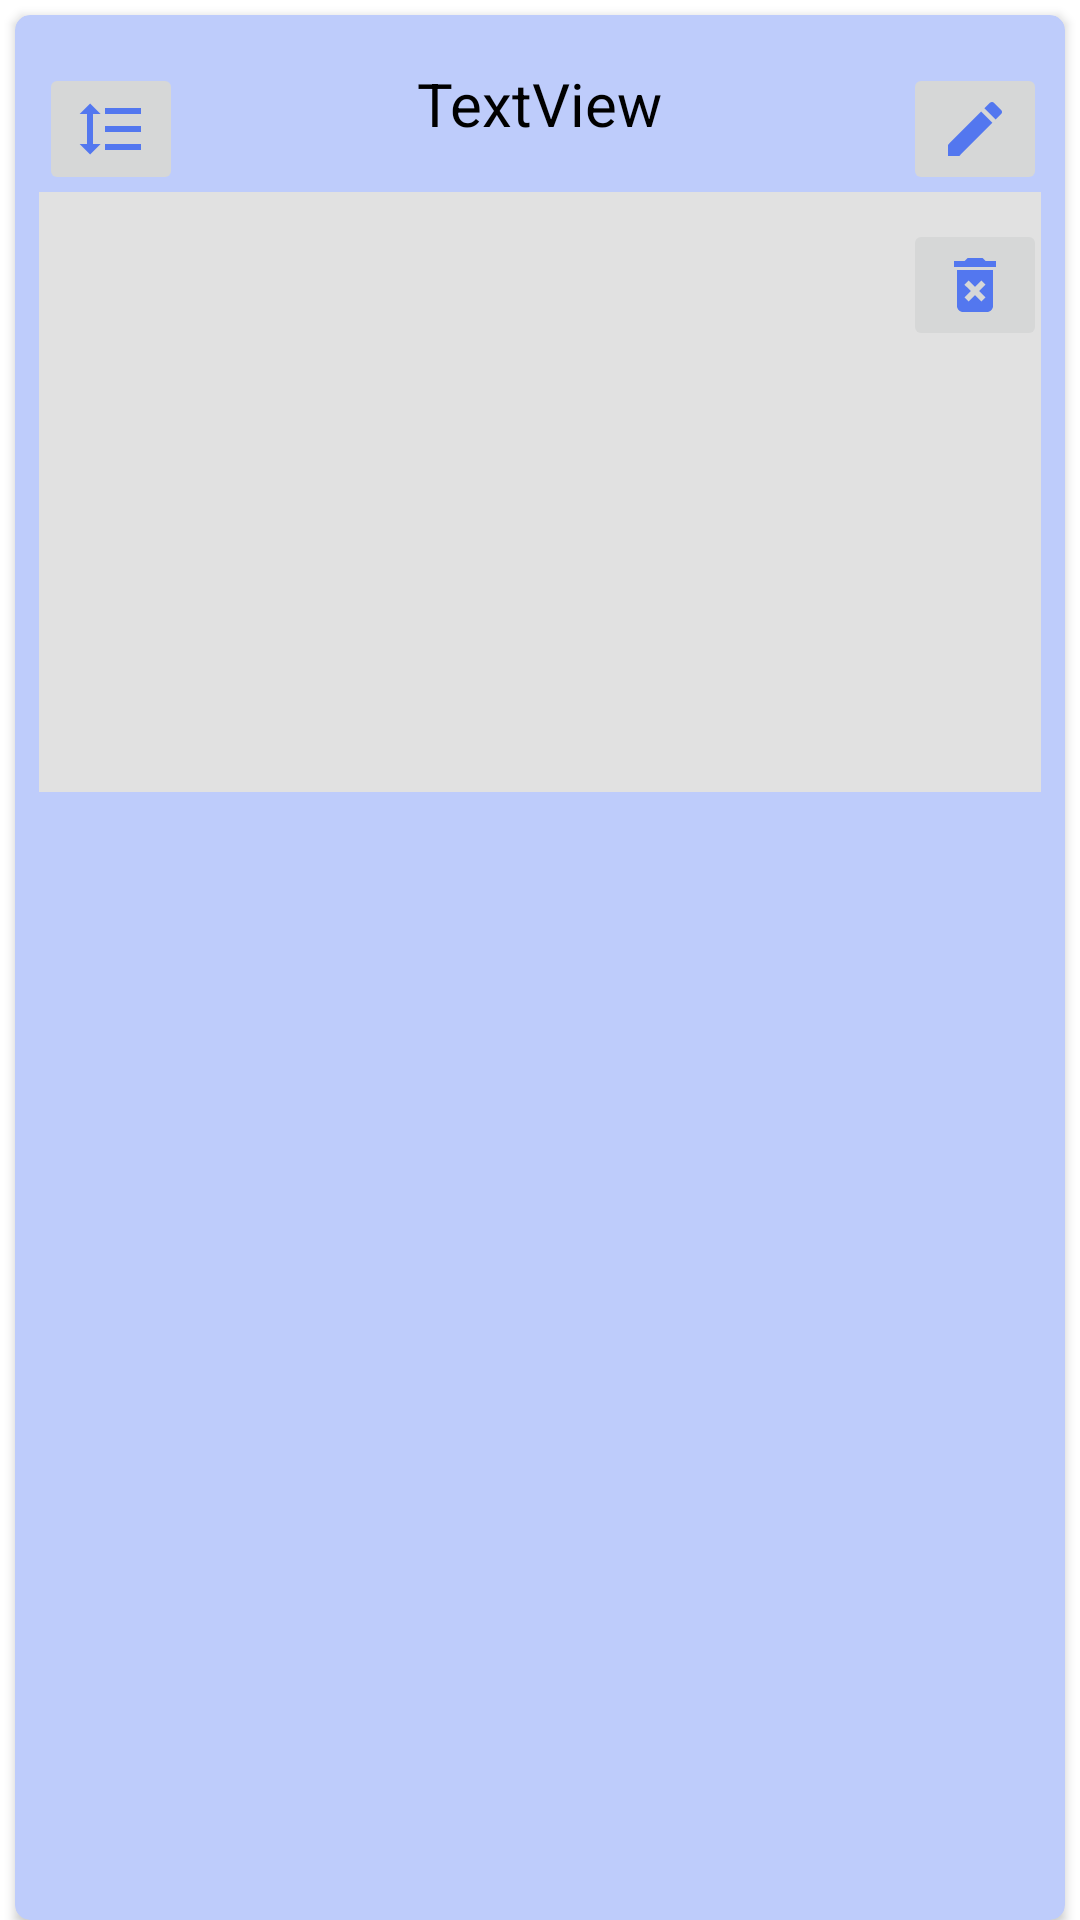

Icons on this 1080*1920 Android screen, each with its box as (x1, y1, x2, y2):
delete: (954, 258, 996, 312)
drag: (51, 81, 171, 177)
edit: (915, 81, 1035, 177)
